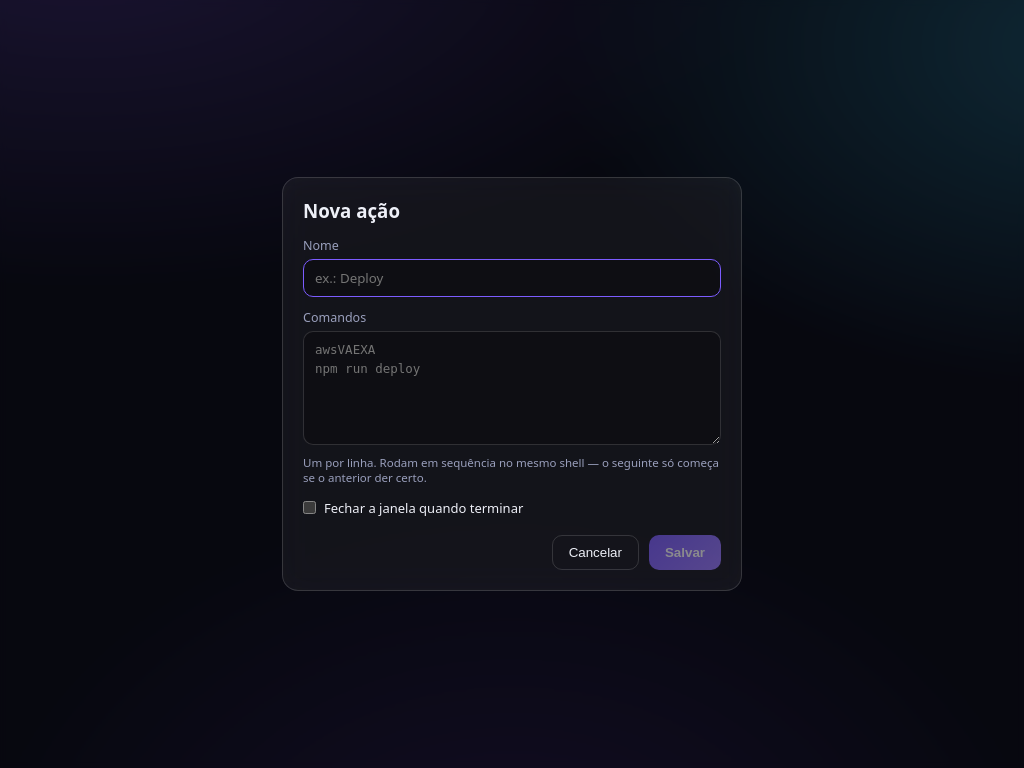
it: cadastro de ação › mostra o erro em vez de fechar
The width and height of the screenshot is (1024, 768).
Type "  x  " into the field with placeholder "ex.: Deploy". click: (512, 278)
box: [303,259,721,297]
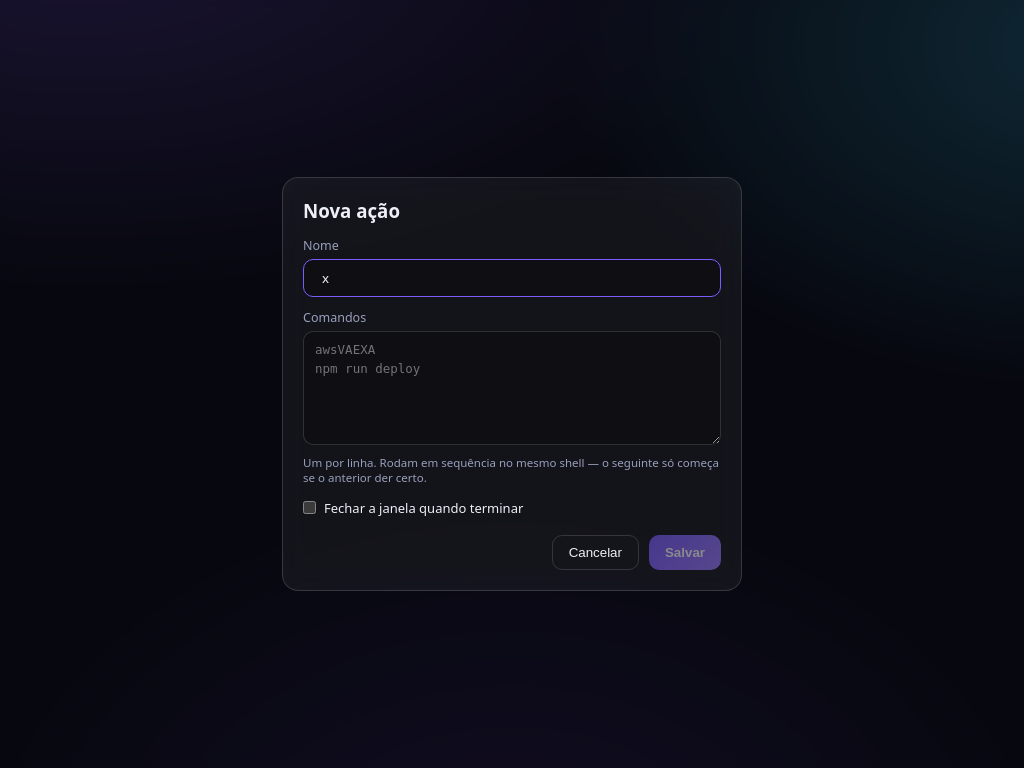
Type "ls" into the text box with placeholder "awsVAEXA npm run deploy". click: (512, 388)
box: [303,331,721,445]
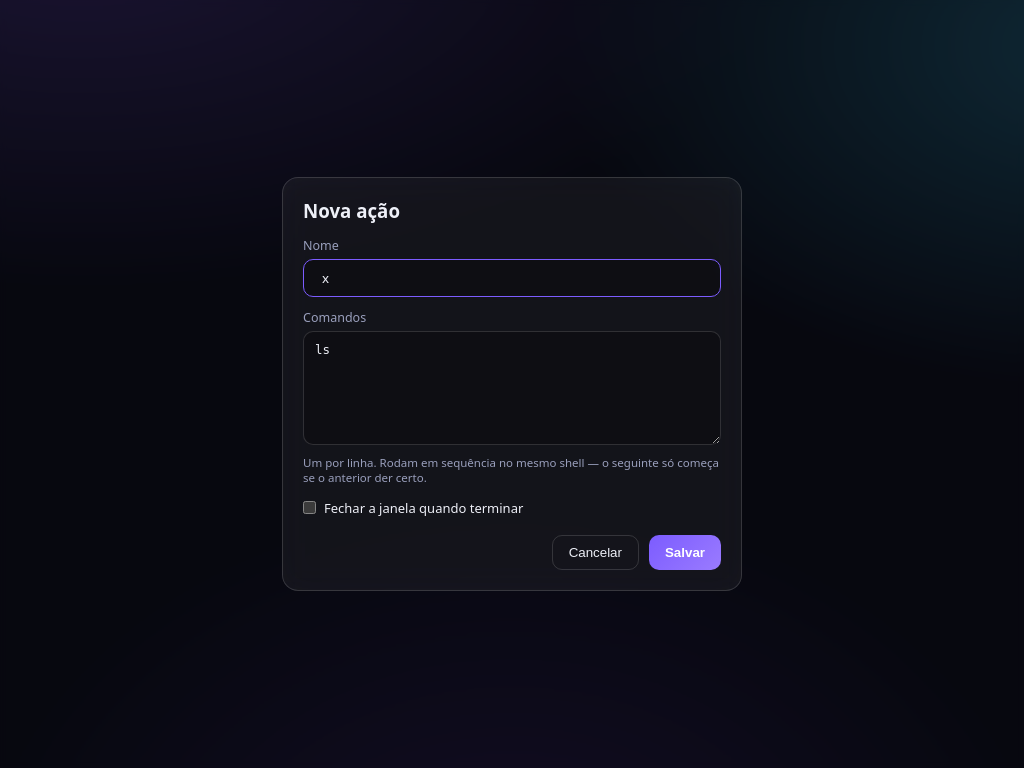
Click the button "Salvar". click: (685, 552)
box: [649,535,721,570]
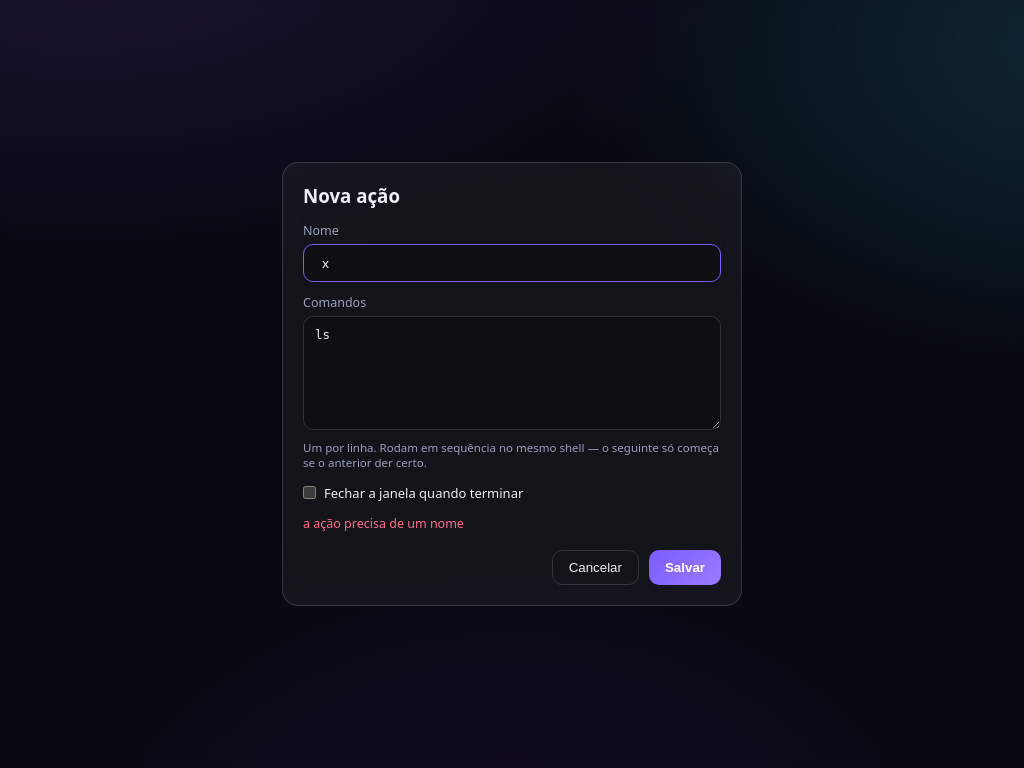
Now the text "a ação precisa de um nome" is shown, box [303,515,464,532]
